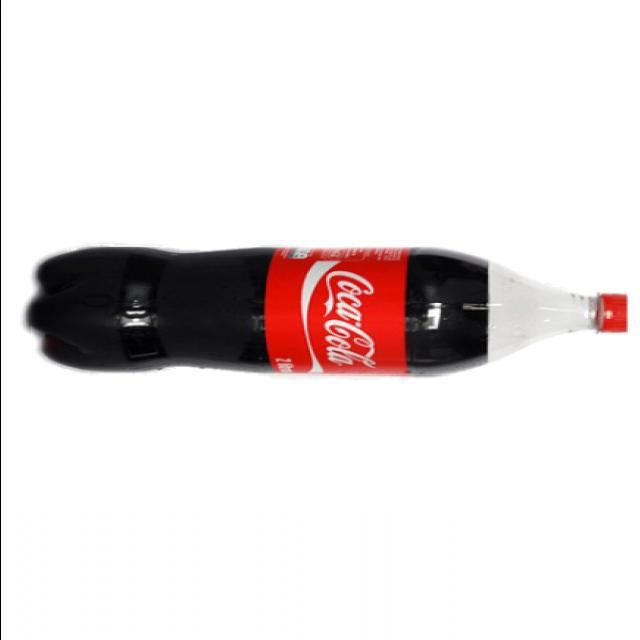bottle: (30, 247, 626, 375)
